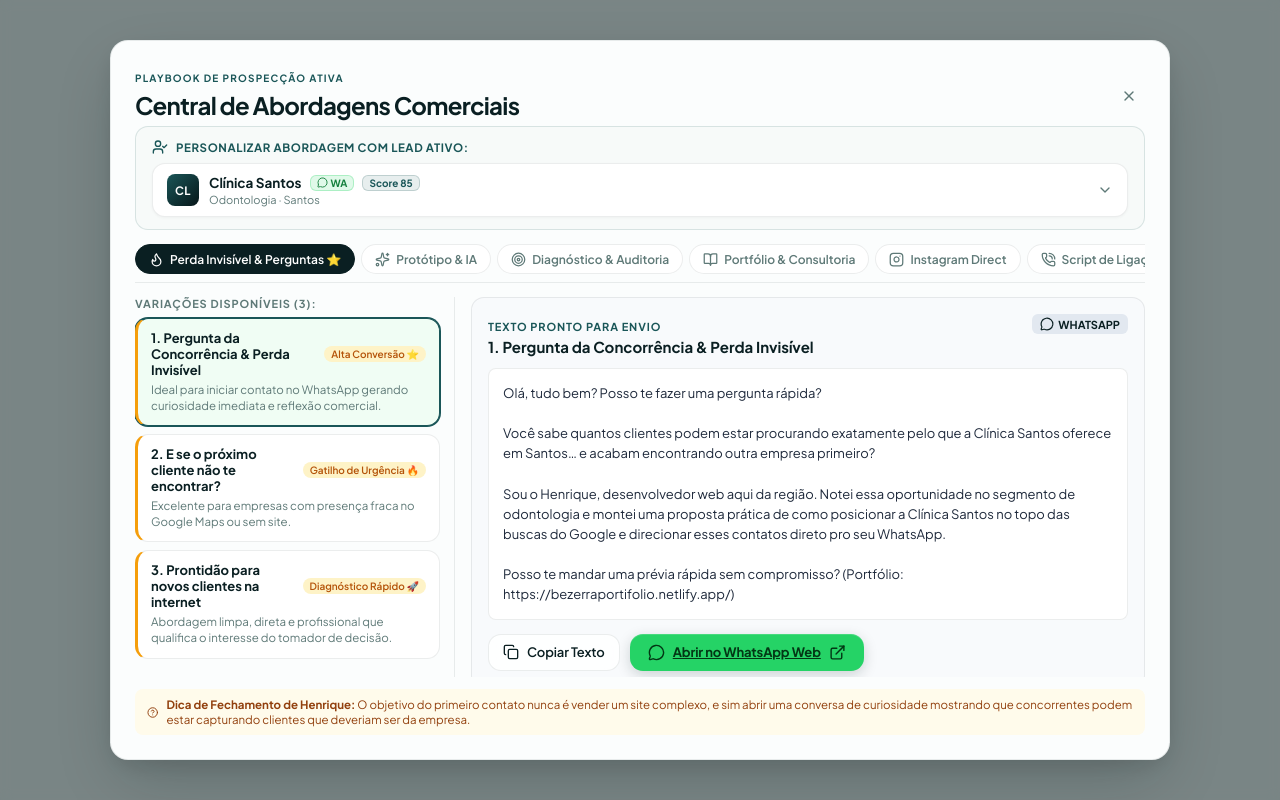
Scenario: ApproachPlaybookModal Component › deve permitir alternar para outra pergunta e atualizar o preview
Click the text "2. E se o próximo cliente não te encontrar?".
click(204, 470)  # box [151, 446, 257, 494]
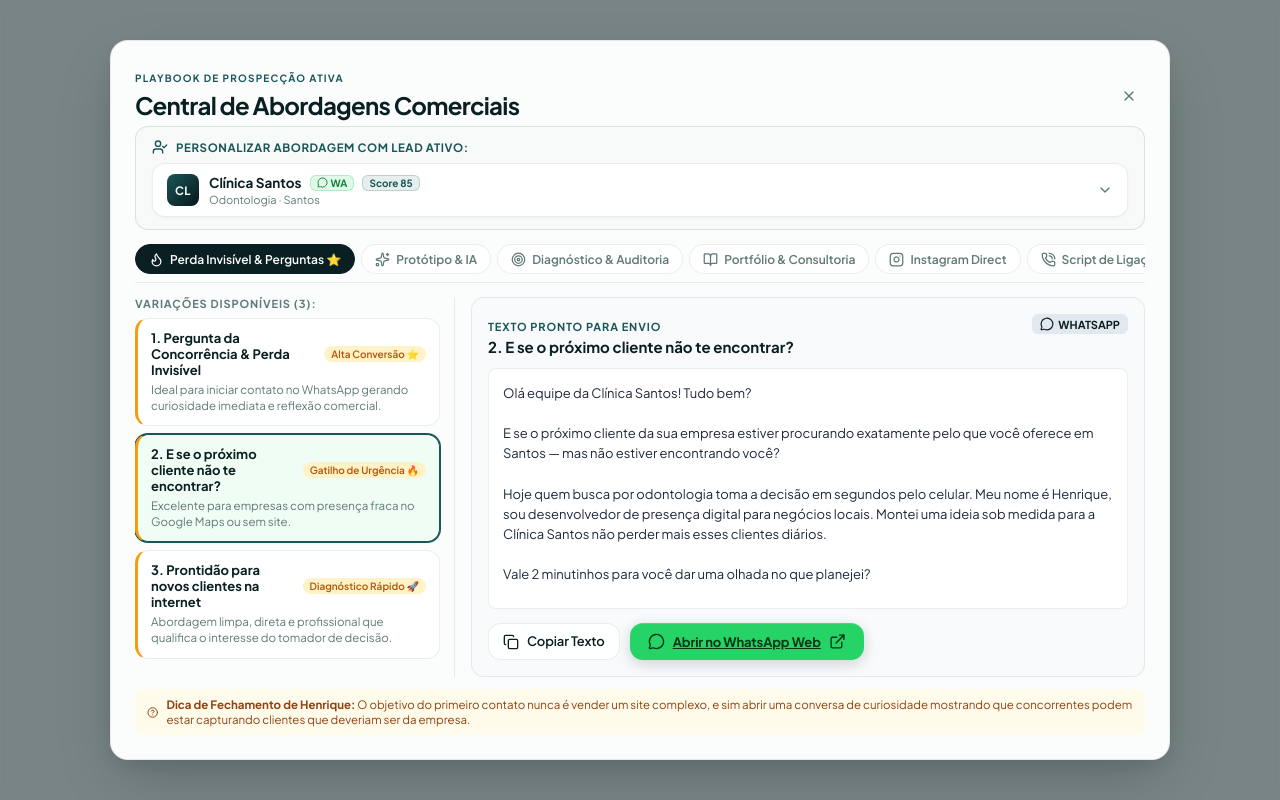
Expected: the text "E se o próximo cliente da sua empresa estiver procurando exatamente pelo que você oferece em Santos" is shown, [503, 385, 1114, 582]
